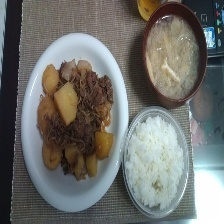rice: (122, 113, 190, 212)
